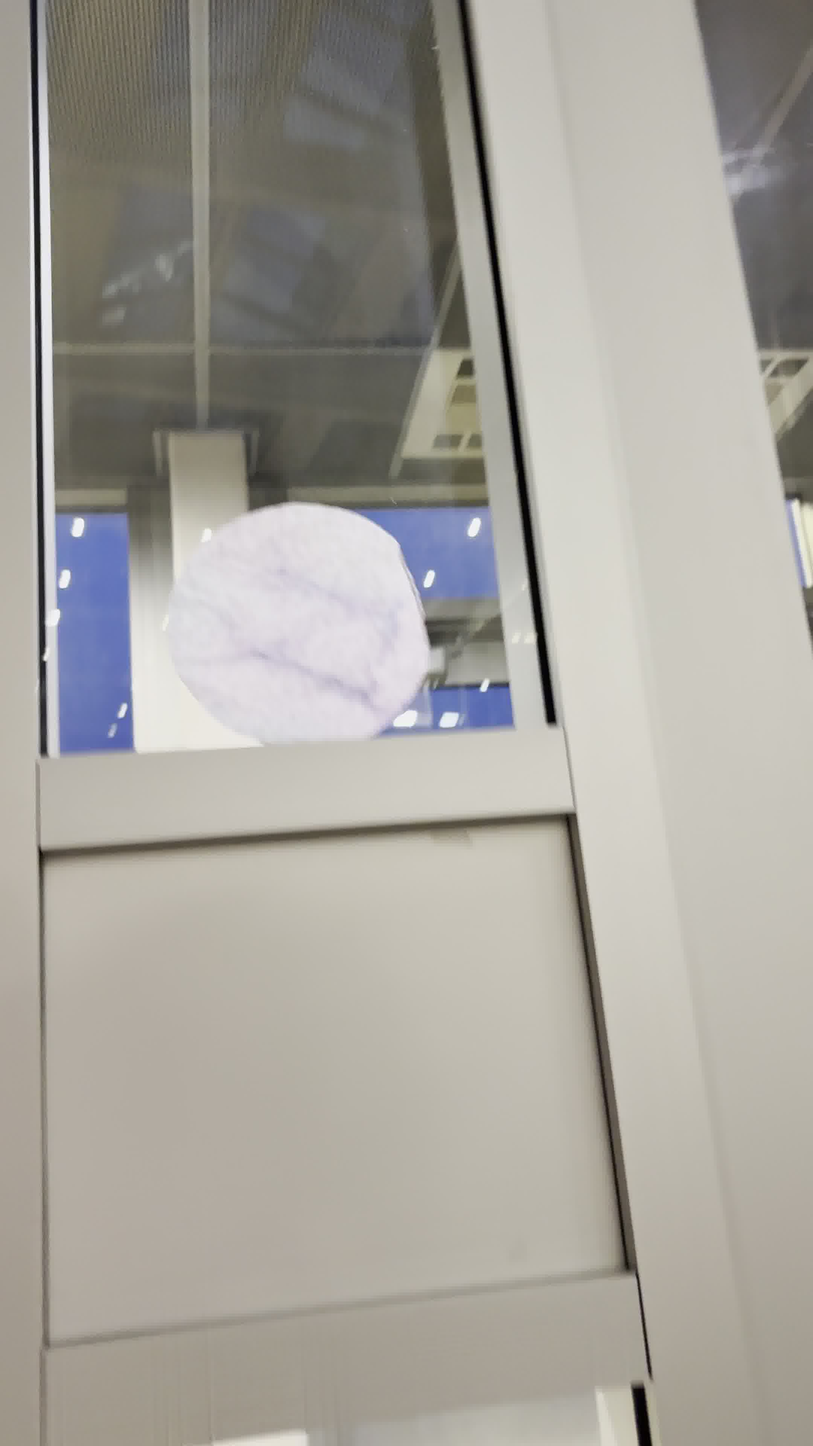Target: (157, 499, 436, 749)
